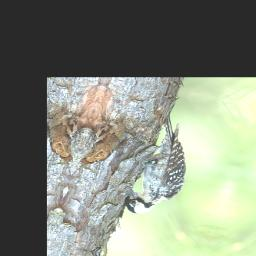Woodpecker: (121, 113, 207, 221)
